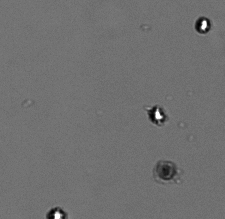Dead Cell: (155, 159, 180, 181)
Living Cell: (148, 105, 168, 125), (194, 15, 212, 34)
